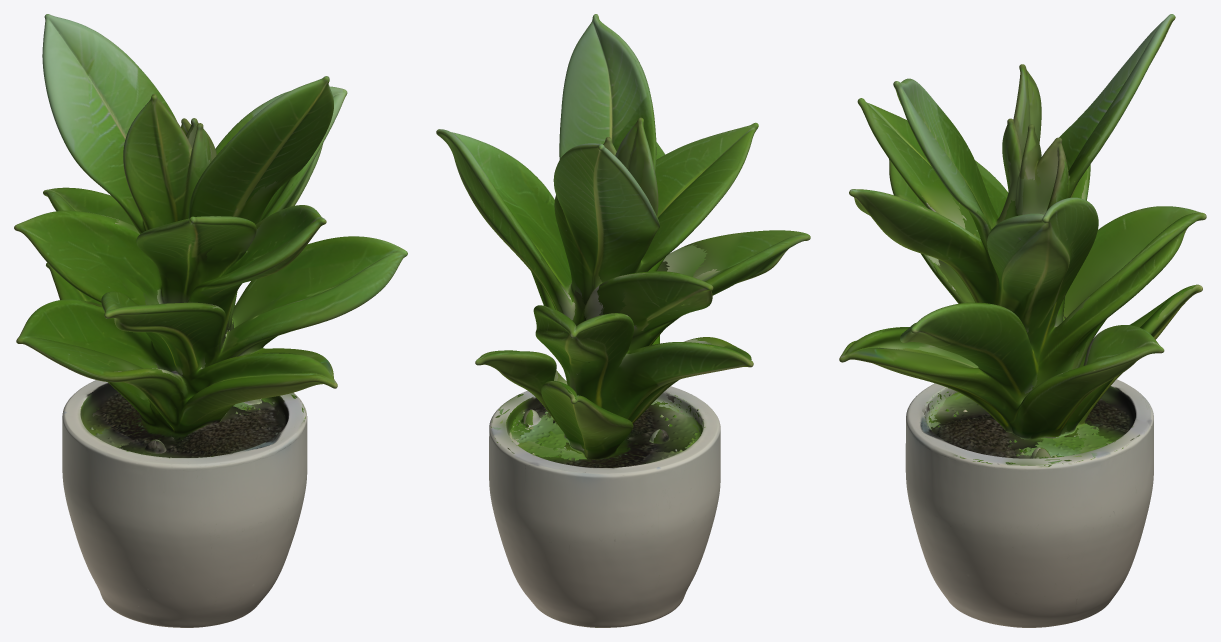
The model's file is plant.glb.
3 renders of one model, left to right at view 1: azimuth 30°, elevation 25°; view 2: azimuth 150°, elevation 25°; view 3: azimuth 270°, elevation 25°, orthographic. The views are drawn at different scales.
Visible parts, largest first — view 1: texture_pbr_v128; view 2: texture_pbr_v128; view 3: texture_pbr_v128.
Boxes of the visible parts, x1,y1,x2,y2 form: texture_pbr_v128: (14, 14, 407, 627); texture_pbr_v128: (436, 14, 810, 627); texture_pbr_v128: (839, 14, 1206, 627).
Size of the model in its own units: 0.667 by 1.05 by 0.6336.
Materials: 1 (1 with a texture image).
